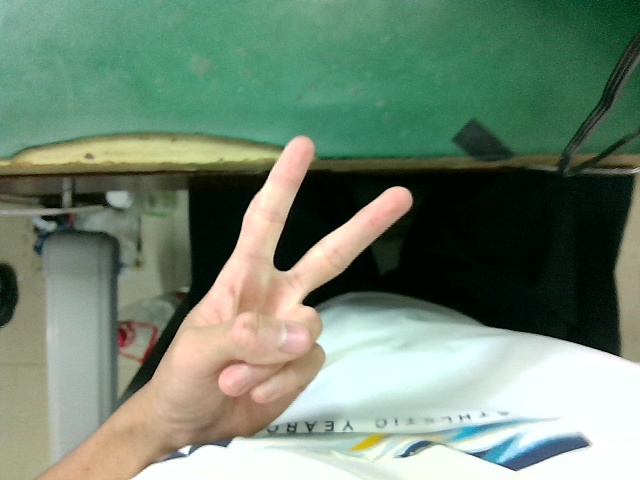scissor: (146, 118, 419, 463)
